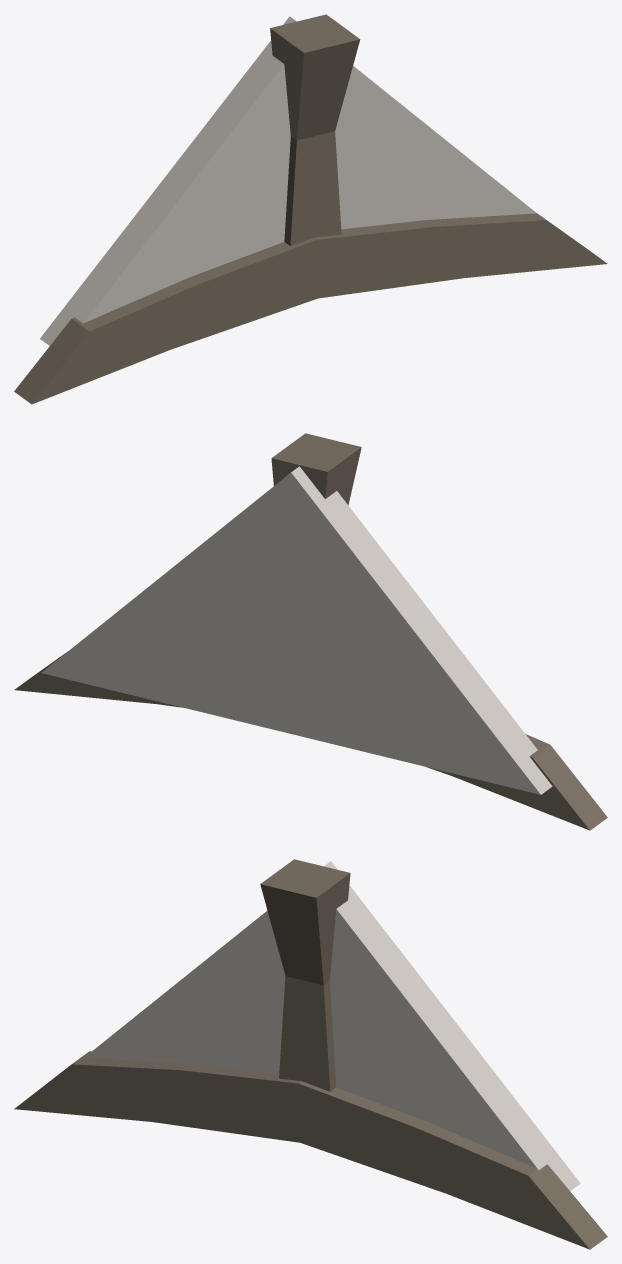
Rendered from _ROOF_TRIANGLE__WOOD_UP_1.fbx.
3 renders of one model, top to bottom at view 1: azimuth 30°, elevation 25°; view 2: azimuth 150°, elevation 25°; view 3: azimuth 330°, elevation 25°, orthographic.
Parts seen in each view (by area): view 1: ROOF_TRIANGLE__WOOD_UP_1; view 2: ROOF_TRIANGLE__WOOD_UP_1; view 3: ROOF_TRIANGLE__WOOD_UP_1.
Boxes of the visible parts, x1,y1,x2,y2 form: ROOF_TRIANGLE__WOOD_UP_1: [14, 14, 607, 404]; ROOF_TRIANGLE__WOOD_UP_1: [14, 433, 607, 830]; ROOF_TRIANGLE__WOOD_UP_1: [14, 859, 607, 1249].
Bounding box in the file's own units: 115 × 56.93 × 14.73.
